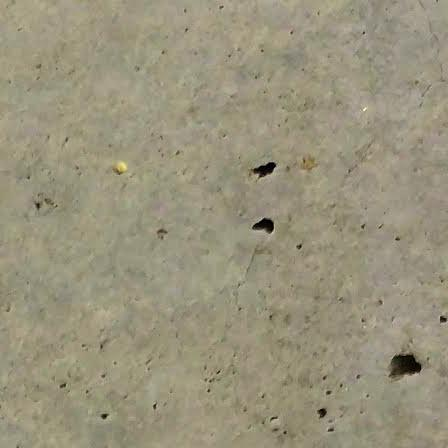hole: (249, 157, 281, 184), (251, 217, 275, 235)
spalling: (383, 347, 427, 382)
